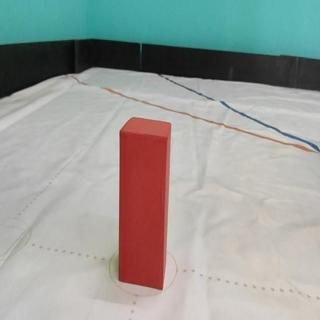redbox: (119, 115, 171, 291)
